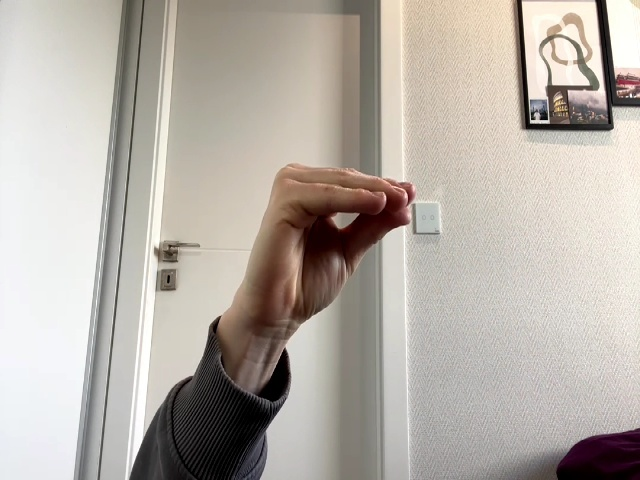E: (232, 164, 416, 354)
